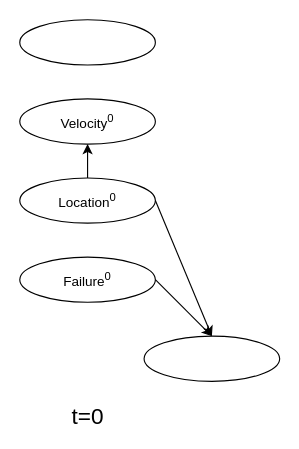
Image size: 299x449. Some labels were removed from this diagram. The shapes that lost their labels are listed below. From the top down, each one's centre as x and y in pixels, then its label:
At (x=87, y=42): "Weather 0".
At (x=211, y=358): "Observation 0".
